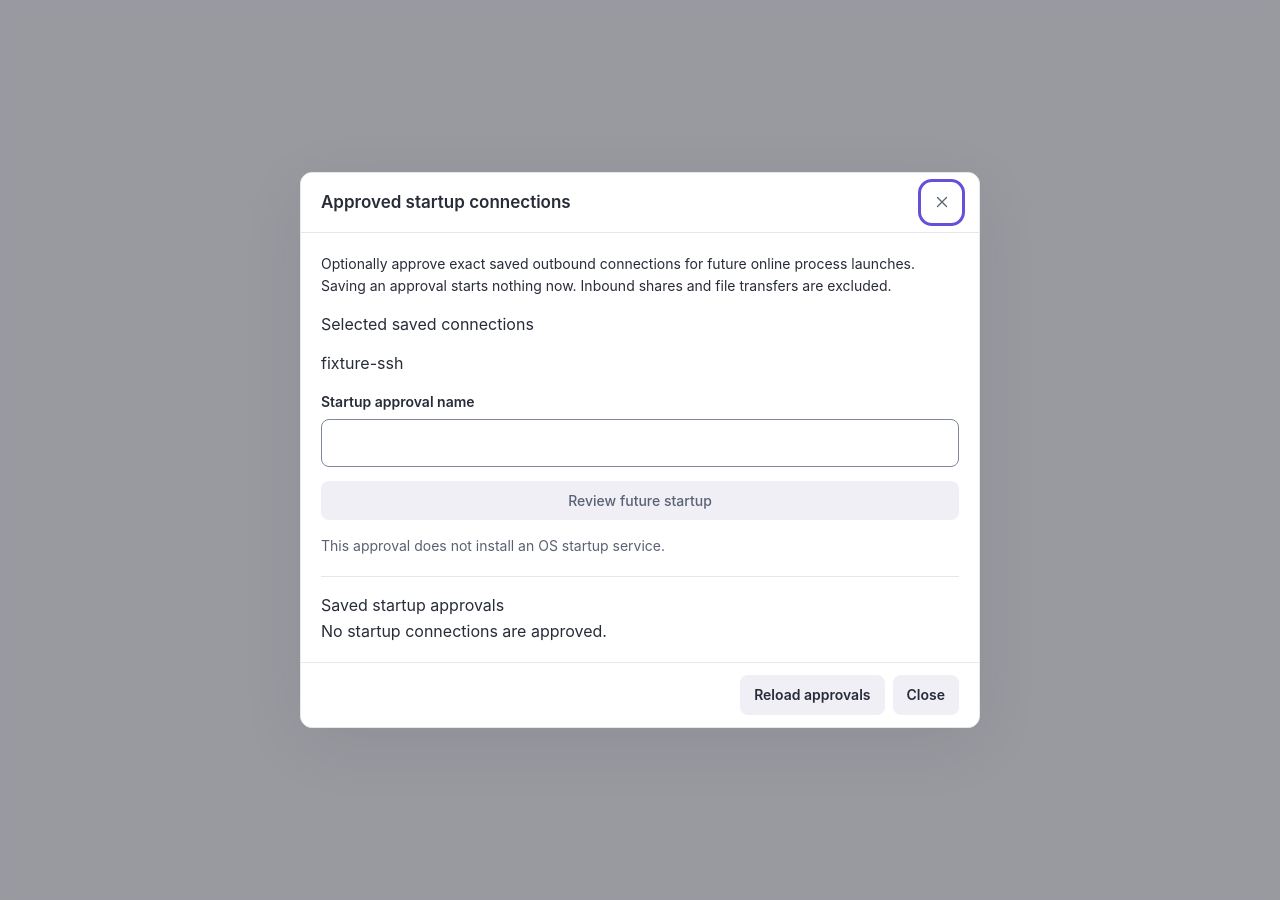
explicit future outbound startup › does not claim success after failed persistence in startup.save
This screenshot has width=1280, height=900.
Expected: the button "Reload approvals" is enabled, [740,676,884,715]
In the field labelled "Startup approval name": [640, 443] box [321,419,959,467], type "fixture-startup"
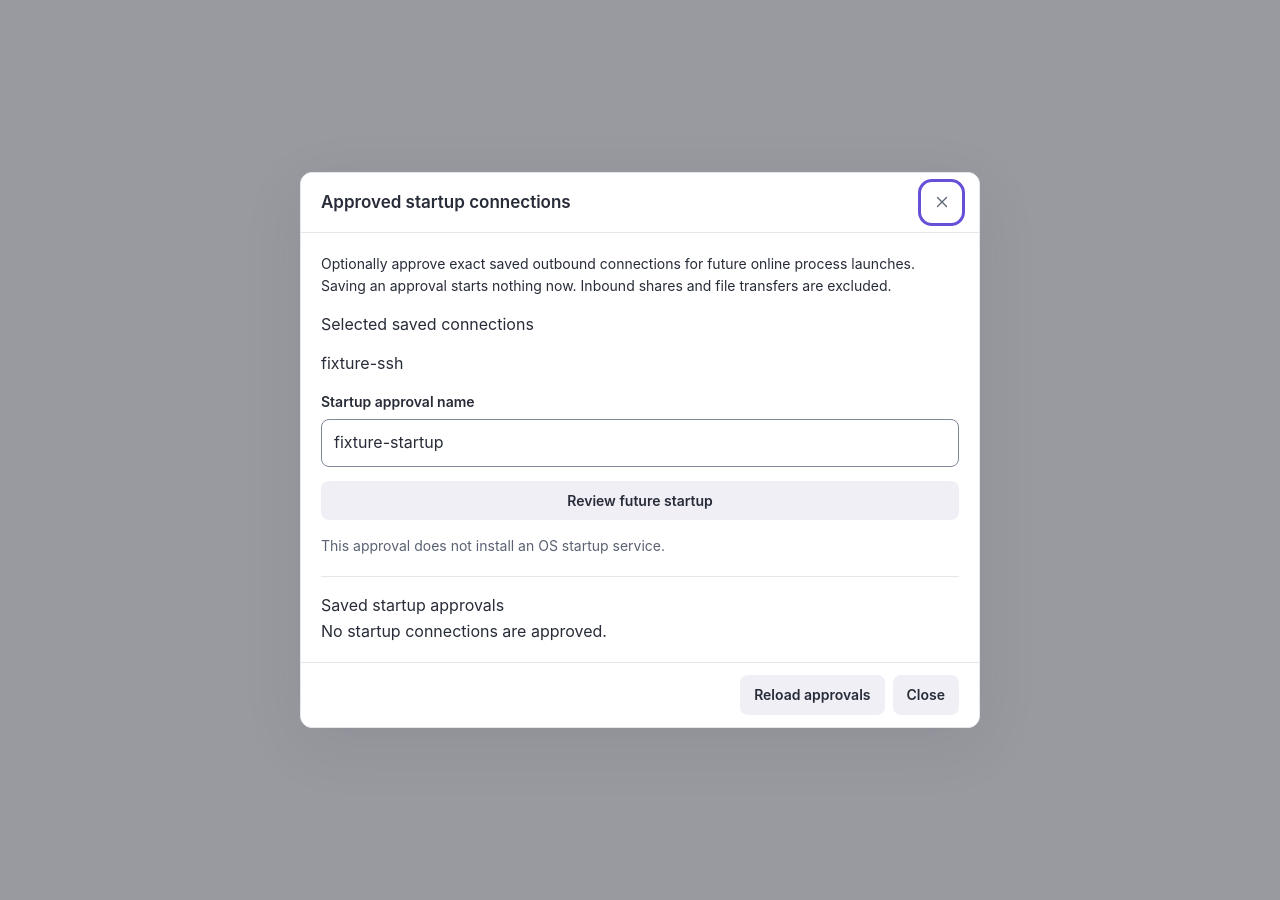
Click the button "Review future startup": [640, 501] box [321,481,959,520]
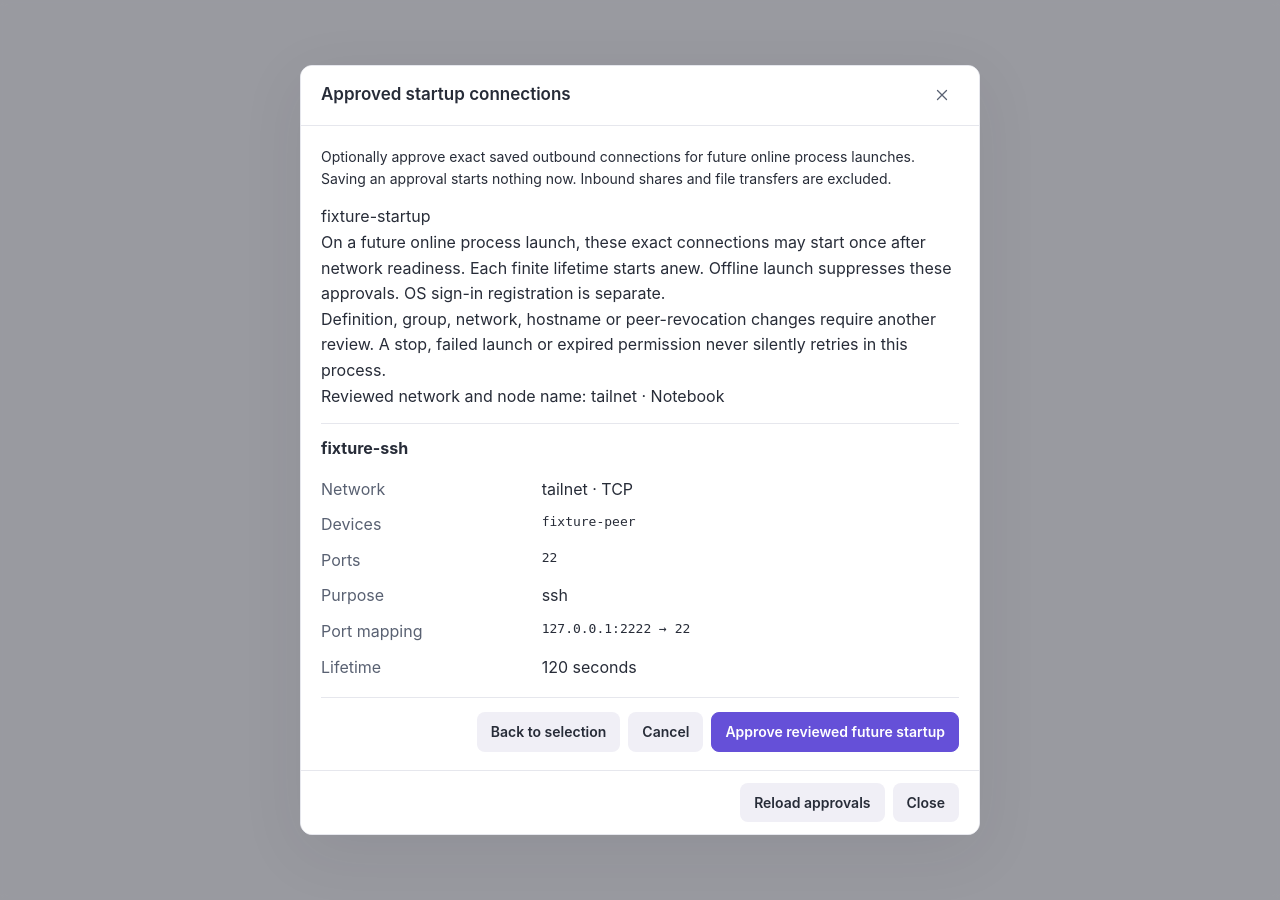
Click the button "Approve reviewed future startup": [835, 732] box [711,712,959,752]
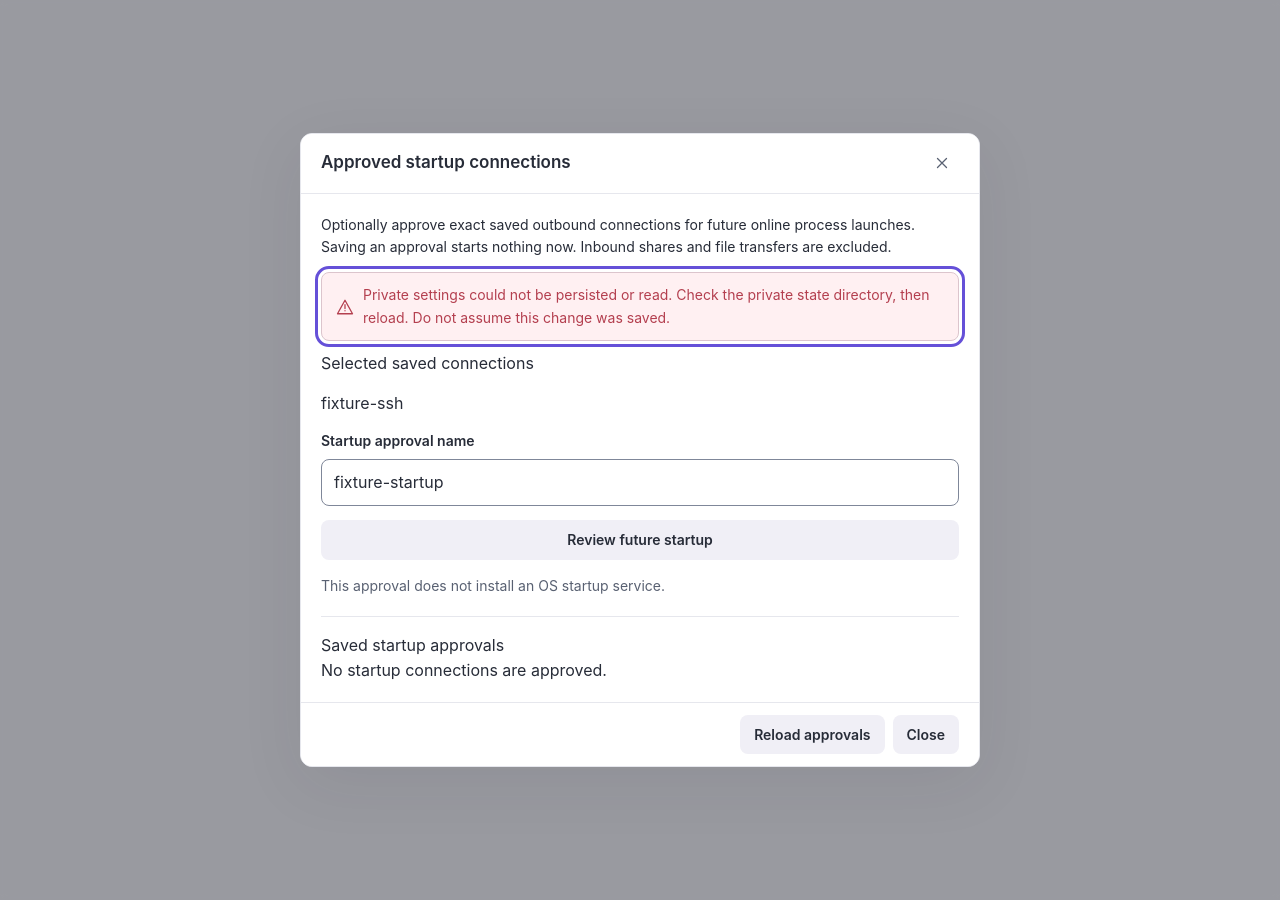
Now the message shows "Private settings could not be persisted or read. Check the private state directory, then reload. Do not assume this change was saved.", box [363,286,930,326]
